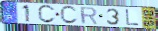1: (21, 4, 31, 22)
3: (106, 8, 121, 26)
C: (59, 5, 80, 25), (37, 4, 57, 24)
L: (124, 9, 140, 26)
R: (79, 7, 99, 26)
